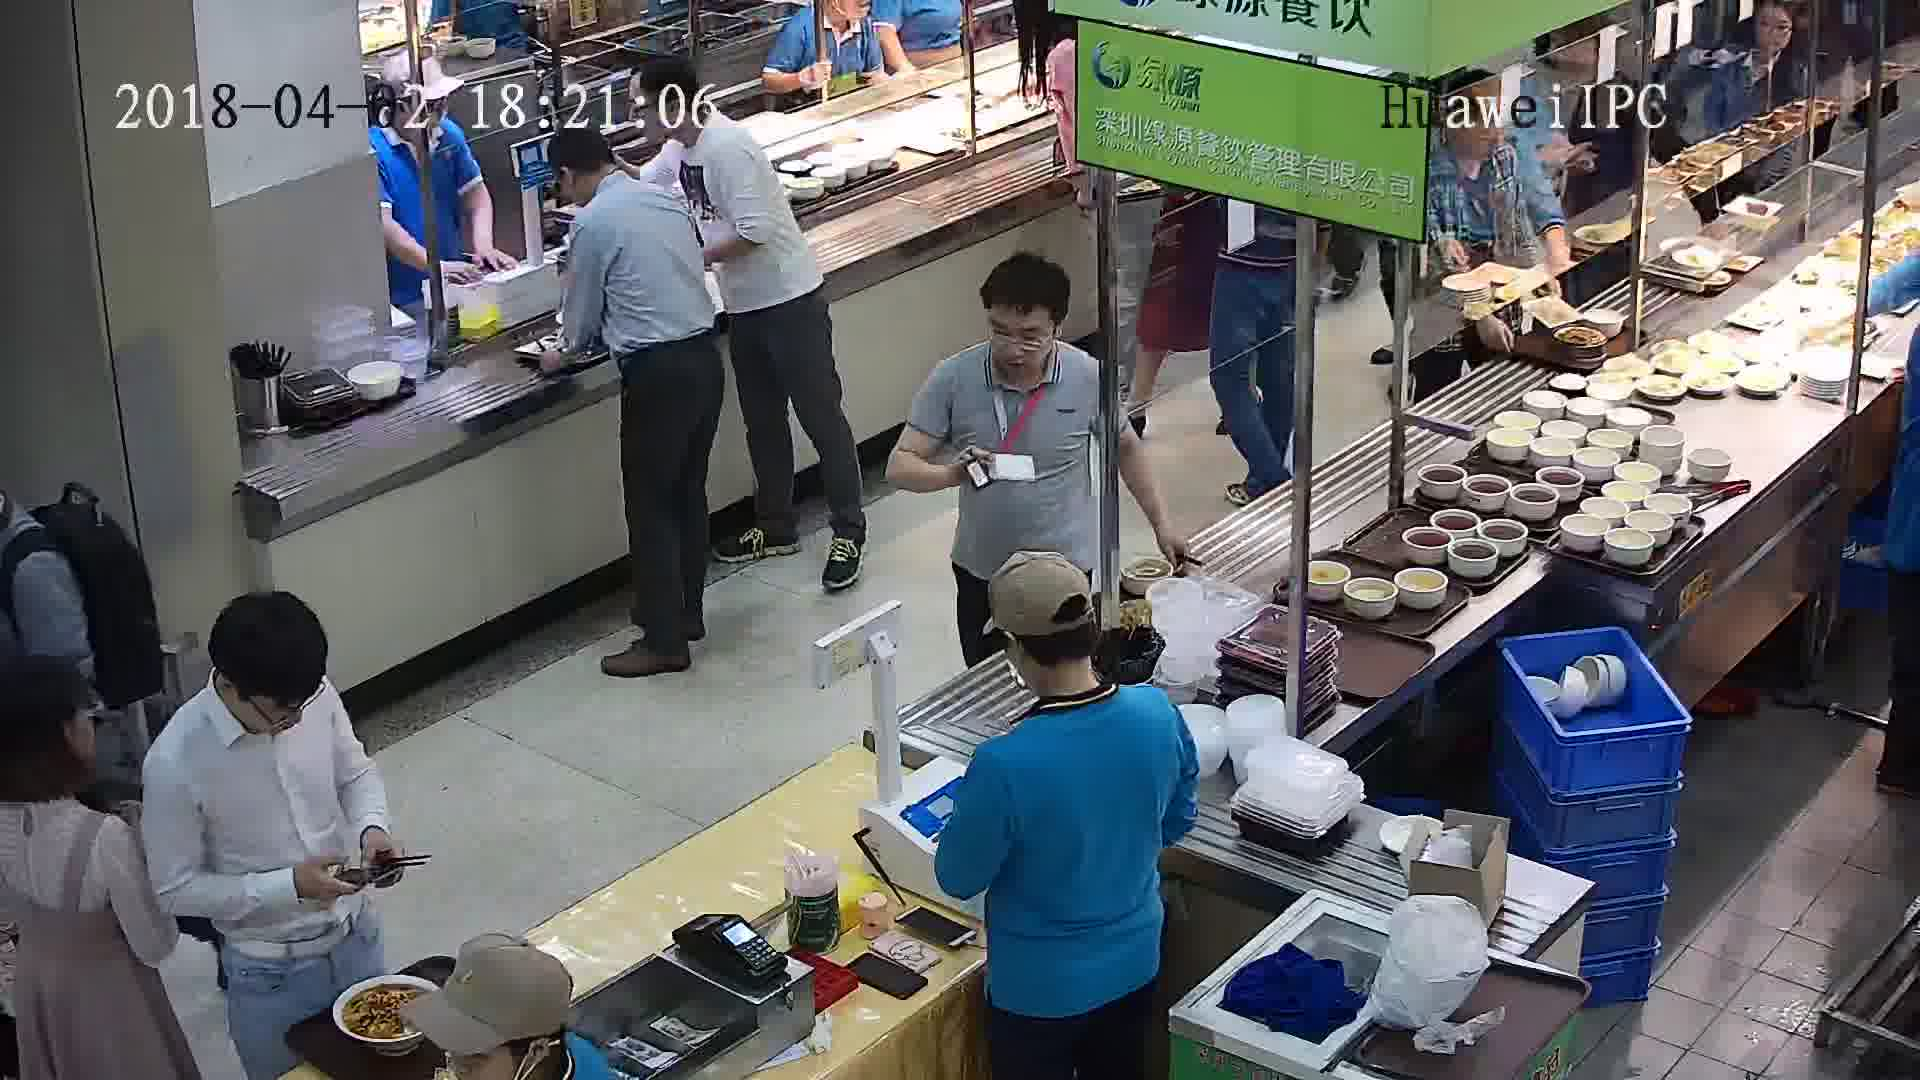face: (42, 680, 130, 768), (980, 297, 1062, 379), (610, 76, 680, 147), (1749, 4, 1798, 53)
person: (967, 548, 1187, 800), (146, 590, 366, 797), (918, 251, 1113, 422), (4, 651, 141, 888), (545, 125, 685, 253), (629, 52, 757, 178), (1417, 72, 1543, 192), (370, 49, 464, 175), (1715, 3, 1797, 92), (775, 1, 901, 59)
